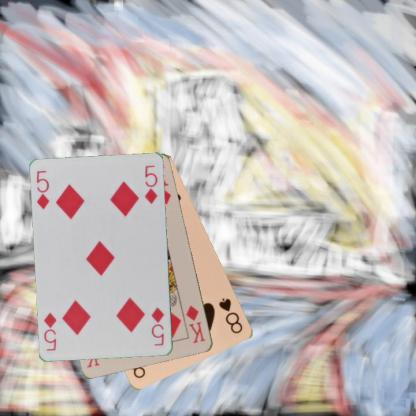5d: (34, 168, 51, 211), (149, 305, 165, 347)
8s: (216, 295, 244, 335)
Kd: (183, 303, 207, 345)
